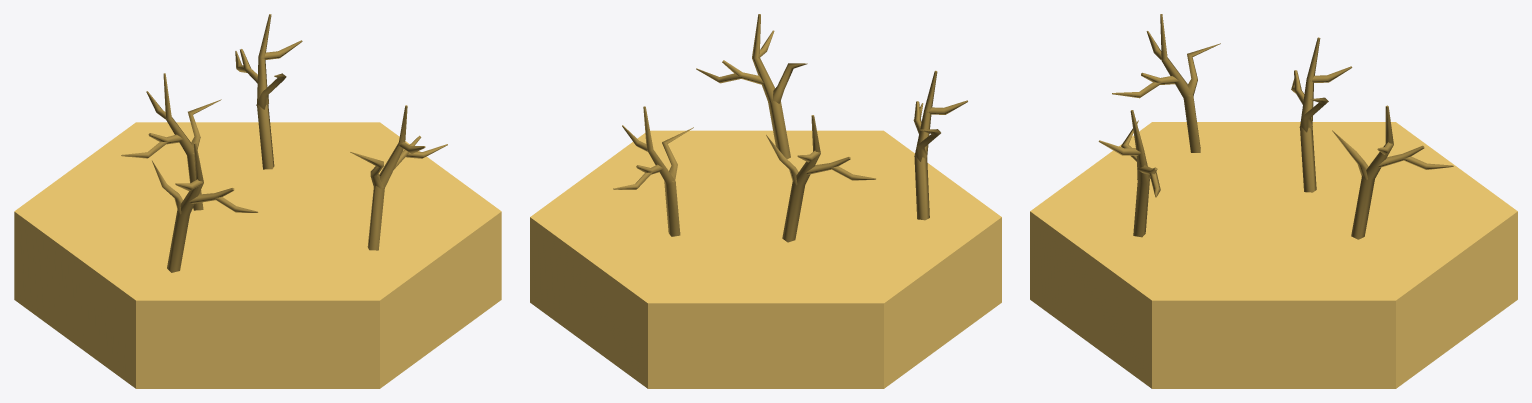
Rendered from Arido.fbx.
3 renders of one model, left to right at view 1: azimuth 30°, elevation 25°; view 2: azimuth 150°, elevation 25°; view 3: azimuth 270°, elevation 25°, orthographic. The views are drawn at different scales.
Parts seen in each view (by area): view 1: Arido; view 2: Arido; view 3: Arido.
Boxes of the visible parts, left/top/right/bottom form: Arido: left=14, top=14, right=501, bottom=388; Arido: left=530, top=14, right=1001, bottom=388; Arido: left=1030, top=14, right=1517, bottom=388.
Size of the model in its own units: 86.6 by 51.43 by 100.
Materials: 1 (1 with a texture image).
